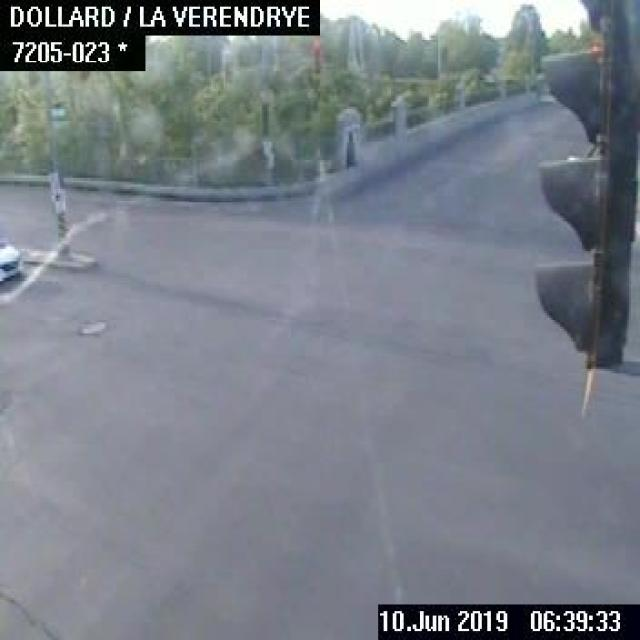vehicle: (0, 229, 24, 284)
